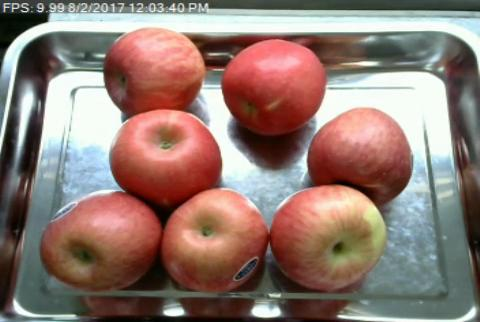apple: (270, 187, 389, 293), (39, 190, 160, 289), (161, 188, 268, 292), (110, 113, 223, 202), (222, 40, 326, 134), (310, 107, 414, 199), (104, 28, 204, 111)
